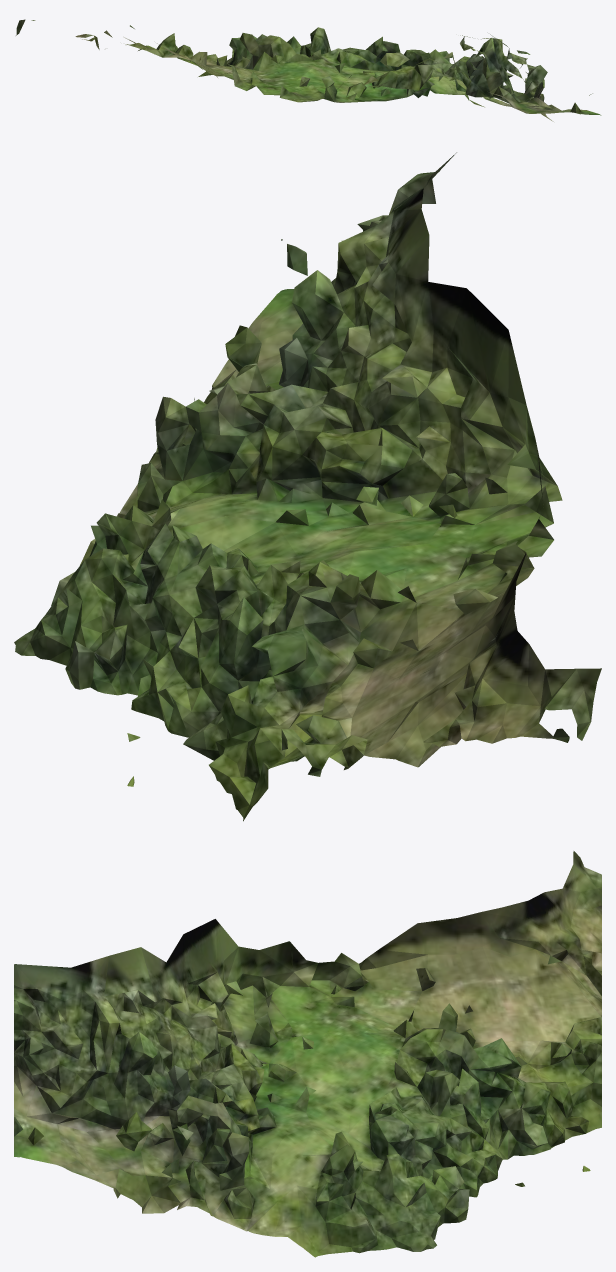
The picture shows the model from 3 angles, top to bottom: view 1: azimuth 30°, elevation 25°; view 2: azimuth 150°, elevation 25°; view 3: azimuth 270°, elevation 25°; orthographic projection. The views are drawn at different scales.
Bounding box in the file's own units: 209 × 90.82 × 209.
3 materials, 3 textured.
